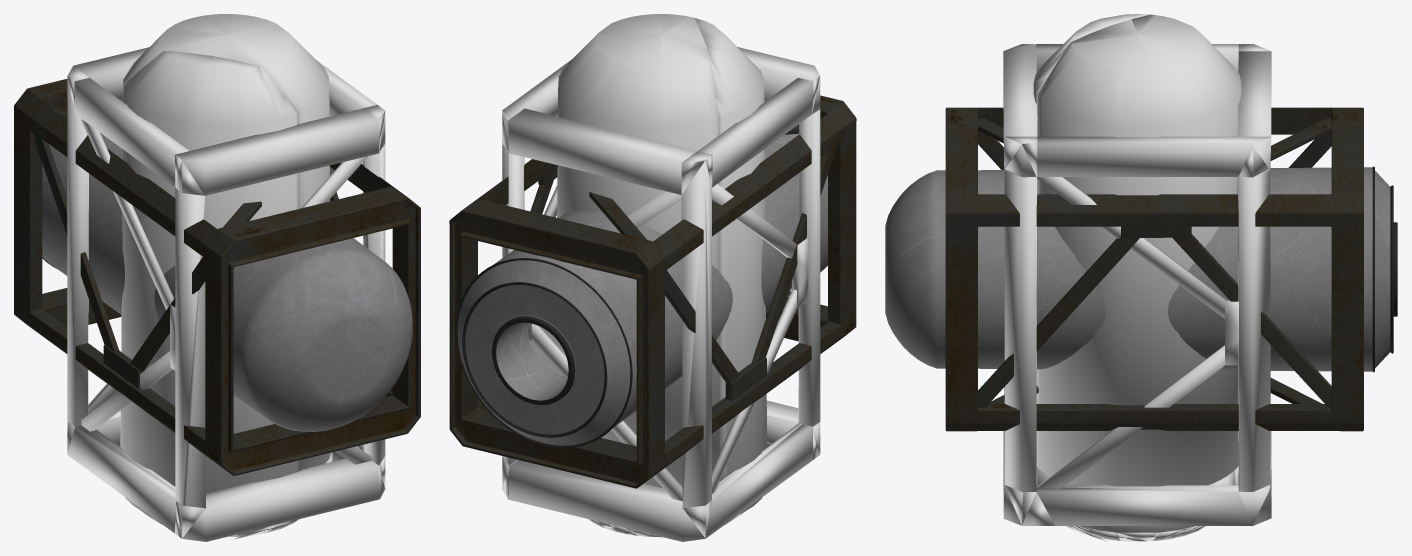
Rendered from SM_Tank.fbx.
3 views of the same model, side by side, from view 1: azimuth 30°, elevation 25°; view 2: azimuth 150°, elevation 25°; view 3: azimuth 270°, elevation 25° (orthographic).
Parts seen in each view (by area): view 1: SM_Tank_ConvexHulls, SM_Tank; view 2: SM_Tank_ConvexHulls, SM_Tank; view 3: SM_Tank_ConvexHulls, SM_Tank.
Part boxes in pixels (left/top/right/bottom): SM_Tank_ConvexHulls: left=67, top=14, right=385, bottom=541; SM_Tank: left=14, top=79, right=420, bottom=475; SM_Tank_ConvexHulls: left=501, top=14, right=820, bottom=541; SM_Tank: left=449, top=95, right=856, bottom=488; SM_Tank_ConvexHulls: left=1003, top=14, right=1271, bottom=541; SM_Tank: left=885, top=107, right=1397, bottom=431.
Bounding box in the file's own units: 2.34 × 5.17 × 5.04.
